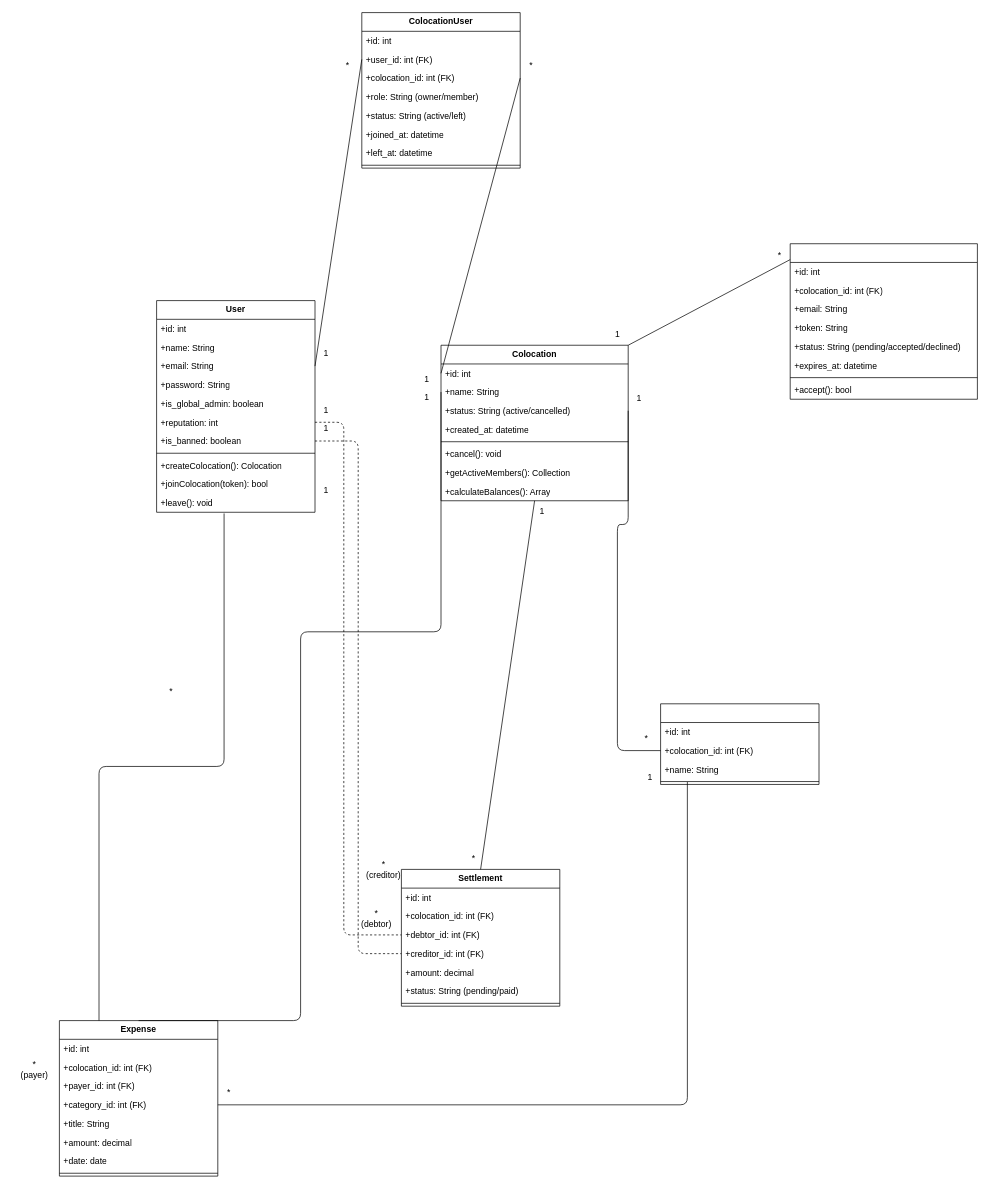
Some shapes in this 990 by 1189 pixel diagram are drawn without their labels. The shapes that lost their labels are listed below. From the top down, each one's box as (x1, y1, x2, y2) in pixels, then its label:
(789, 243, 977, 399): Invitation
(660, 703, 819, 784): Category
